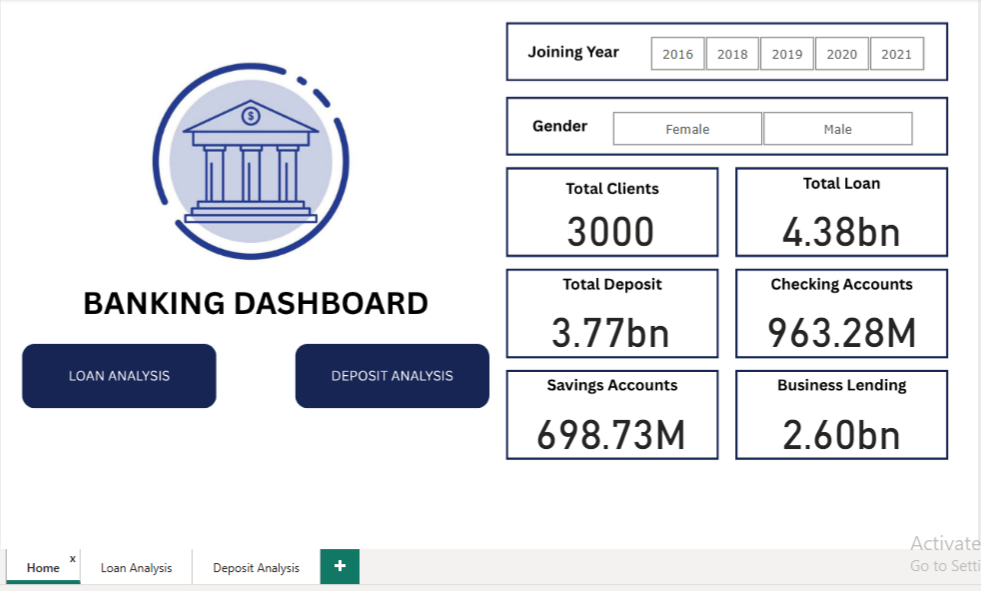

Layout of this report page (visuals, bound fields, positions):
{"tool":"powerbi","page":{"name":"Home","canvas":[1280,720],"ordinal":0},"visuals":[{"type":"card","fields":{"Values":["CountNonNull(banking_clean.Name)"]},"box":[682,263.7,233.5,68.9],"z":0},{"type":"card","fields":{"Values":["banking_clean.Total_Loan"]},"box":[984.4,263.7,233.5,68.9],"z":1},{"type":"card","fields":{"Values":["banking_clean.Total_Deposit"]},"box":[682,394.8,233.5,68.9],"z":2},{"type":"card","fields":{"Values":["Sum(banking_clean.Checking_Accounts)"]},"box":[984.4,394.8,233.5,68.9],"z":3},{"type":"card","fields":{"Values":["Sum(banking_clean.Saving_Accounts)"]},"box":[682,529.1,233.5,68.9],"z":4},{"type":"card","fields":{"Values":["Sum(banking_clean.Business_Lending)"]},"box":[984.4,529.1,233.5,68.9],"z":5},{"type":"slicer","fields":{"Values":["banking_clean.GenderId"]},"box":[776.1,141.1,441.8,57.1],"z":6},{"type":"slicer","fields":{"Values":["banking_clean.Joined_Bank.Variation.Date Hierarchy.Year"]},"box":[826.5,43.7,406.5,57.1],"z":7},{"type":"actionButton","box":[28.8,452.2,250.6,80.6],"z":8},{"type":"actionButton","box":[392.7,451.6,235.6,77.2],"z":9}]}

Visuals, with their boxes on the page's 1280x720 design canvas (x1, y1, x2, y2). These are canvas units, not pixel positions in the 981x591 screenshot, which may show the page scaled, cropped or inside an application window:
card - CountNonNull(banking_clean.Name): bbox(682, 264, 916, 333)
card - banking_clean.Total_Loan: bbox(984, 264, 1218, 333)
card - banking_clean.Total_Deposit: bbox(682, 395, 916, 464)
card - Sum(banking_clean.Checking_Accounts): bbox(984, 395, 1218, 464)
card - Sum(banking_clean.Saving_Accounts): bbox(682, 529, 916, 598)
card - Sum(banking_clean.Business_Lending): bbox(984, 529, 1218, 598)
slicer - banking_clean.GenderId: bbox(776, 141, 1218, 198)
slicer - banking_clean.Joined_Bank.Variation.Date Hierarchy.Year: bbox(826, 44, 1233, 101)
actionButton: bbox(29, 452, 279, 533)
actionButton: bbox(393, 452, 628, 529)
